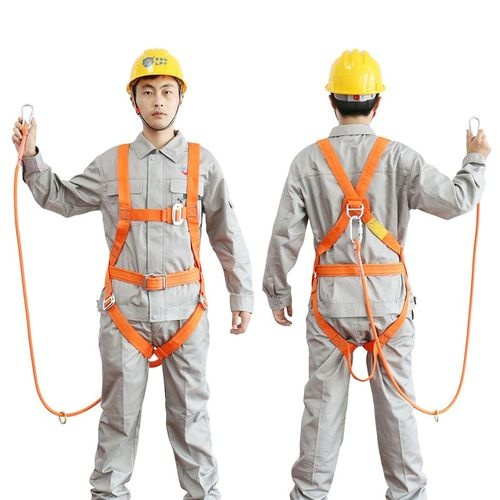safety belt: (296, 138, 426, 380), (98, 142, 235, 368)
